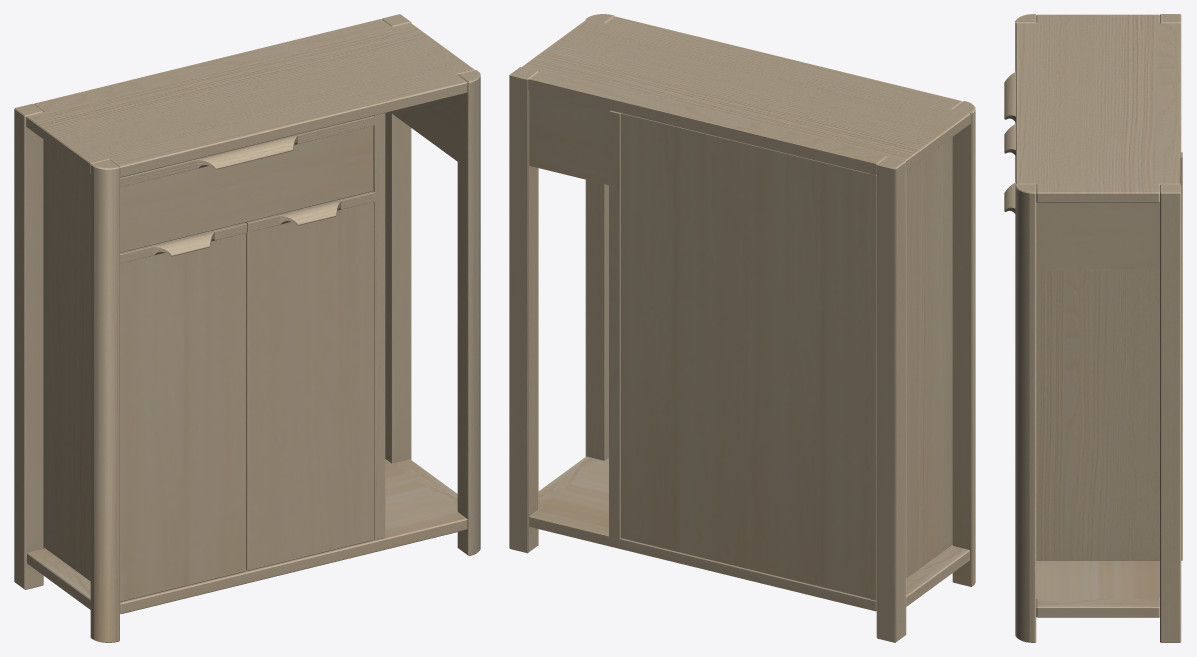
File: raw_model.obj
The picture shows the model from 3 angles, left to right: view 1: azimuth 30°, elevation 25°; view 2: azimuth 150°, elevation 25°; view 3: azimuth 270°, elevation 25°; orthographic projection. The views are drawn at different scales.
Parts seen in each view (by area): view 1: solid_002, solid_001; view 2: solid_001, solid_002; view 3: solid_002, solid_001.
Boxes of the visible parts, left/top/right/bottom form: solid_002: left=14, top=14, right=480, bottom=589; solid_001: left=27, top=125, right=467, bottom=642; solid_001: left=529, top=90, right=975, bottom=611; solid_002: left=509, top=14, right=970, bottom=642; solid_002: left=1004, top=14, right=1182, bottom=642; solid_001: left=1004, top=14, right=1159, bottom=617.
Size of the model in its own units: 0.904 by 1.06 by 0.38.
Materials: 1 (1 with a texture image).
